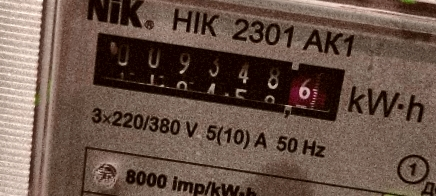0: (114, 40, 131, 67), (144, 44, 162, 69)
3: (204, 52, 222, 80)
4: (233, 57, 251, 86)
6: (294, 73, 315, 102)
8: (263, 62, 282, 92)
9: (173, 49, 192, 77)
screen: (79, 23, 355, 132)
